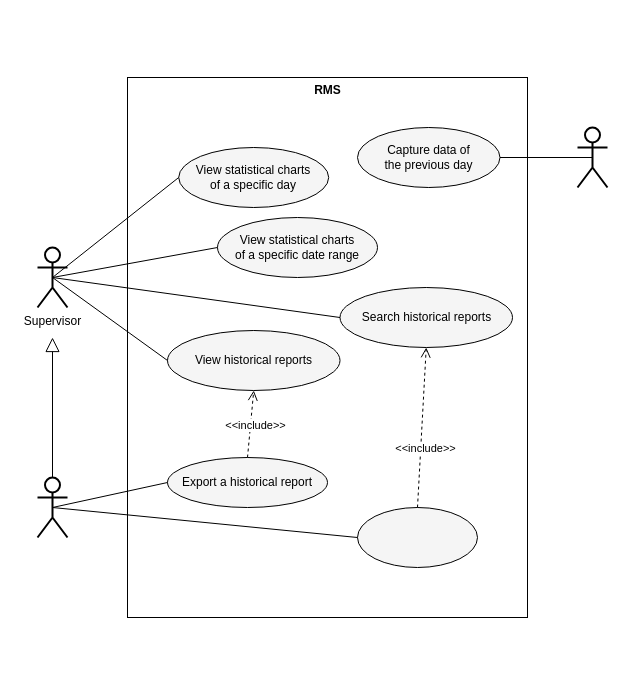
Some shapes in this 643 by 674 pixel diagram are drawn without their labels. Each missing label, with the centre of its shape:
"Administrator" goes at point 52,507.
"Batch export historical reports" goes at point 417,537.
"Timed Event" goes at point 592,157.
